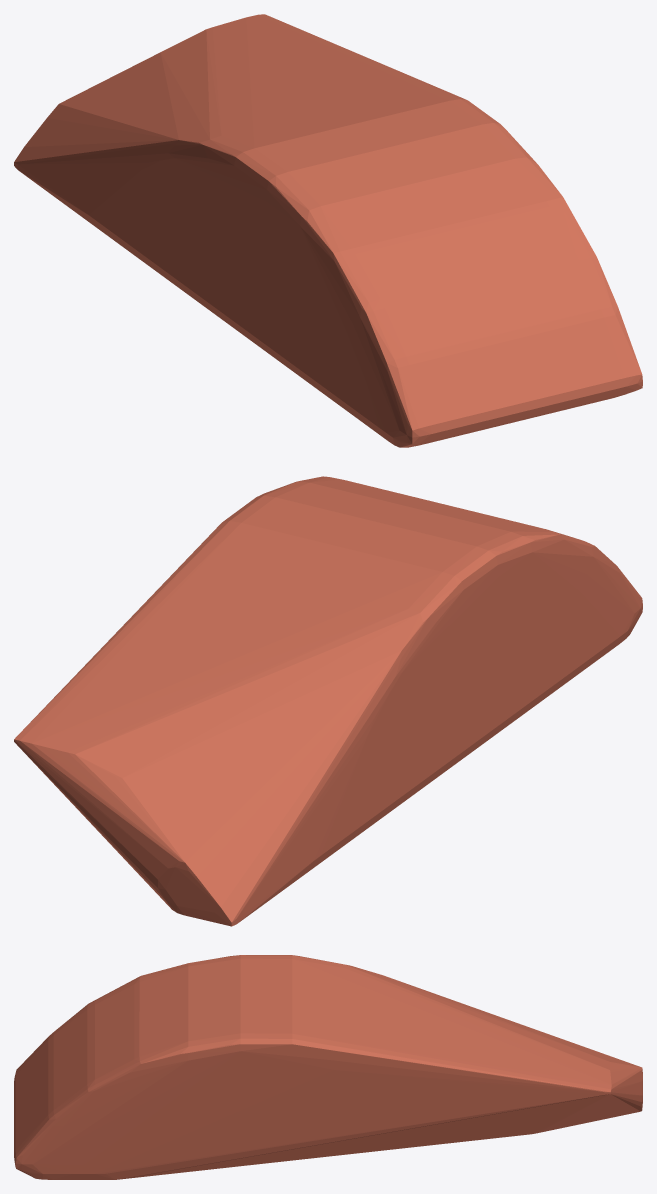
The model's file is right-hip-roll-0_part_9.obj.
3 renders of one model, top to bottom at view 1: azimuth 30°, elevation 25°; view 2: azimuth 150°, elevation 25°; view 3: azimuth 270°, elevation 25°, orthographic. The views are drawn at different scales.
Size of the model in its own units: 0.0268 by 0.0197 by 0.0788.
